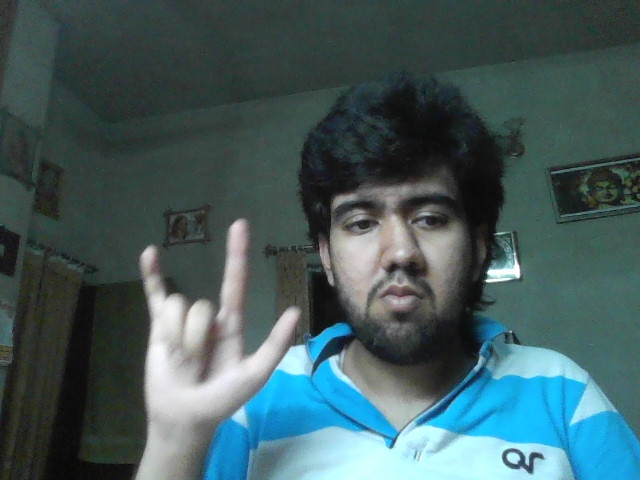ILoveYou: (139, 218, 303, 427)
